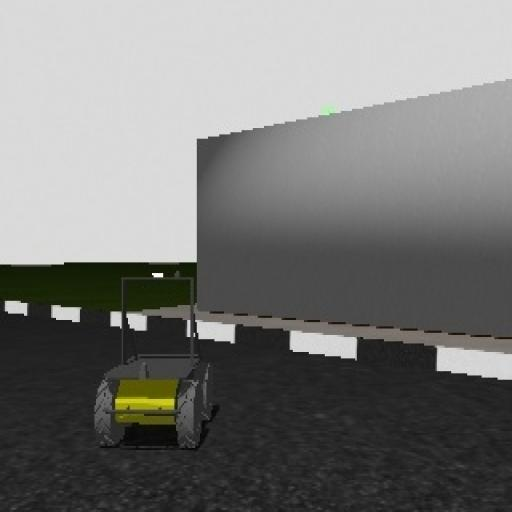huskya200: (85, 266, 220, 454)
